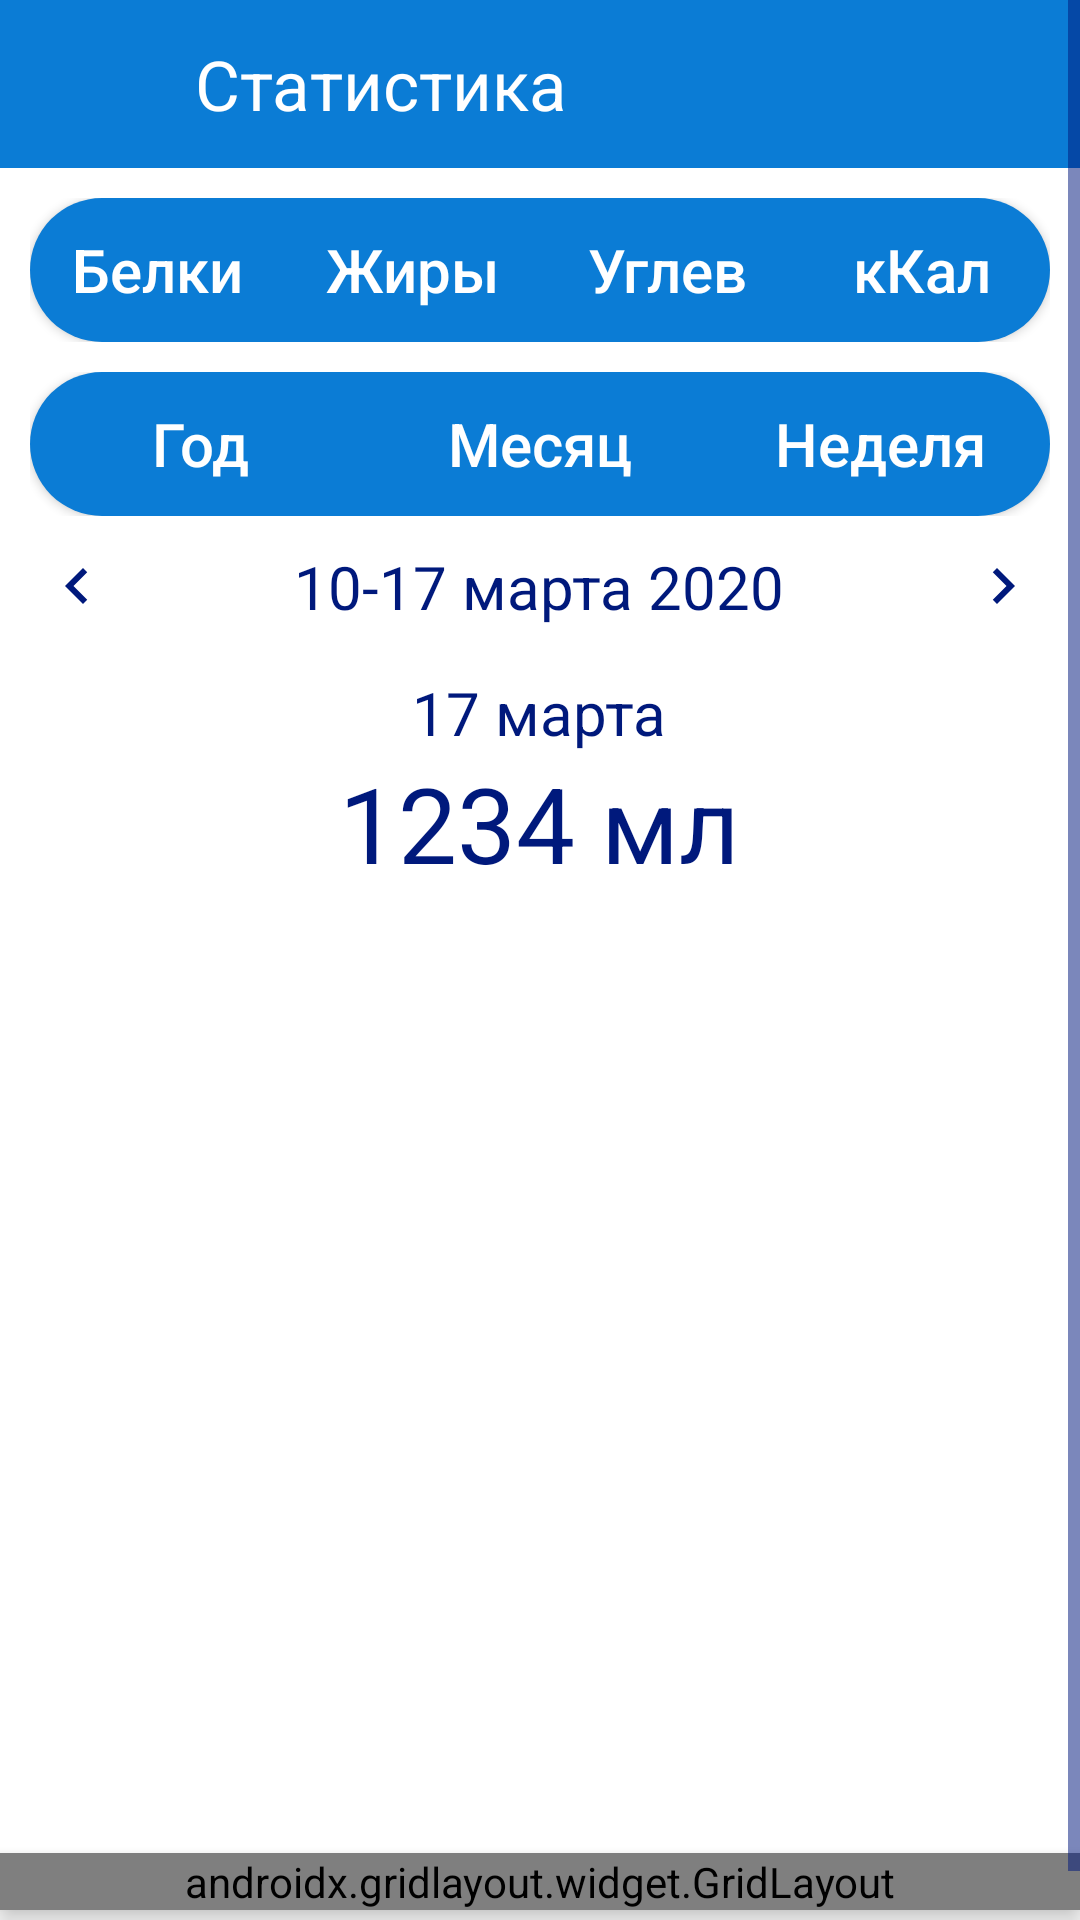

Screen size 1080 x 1920. Icon name, then its center in pixels as [x,y]:
chevron left: [76,586]
